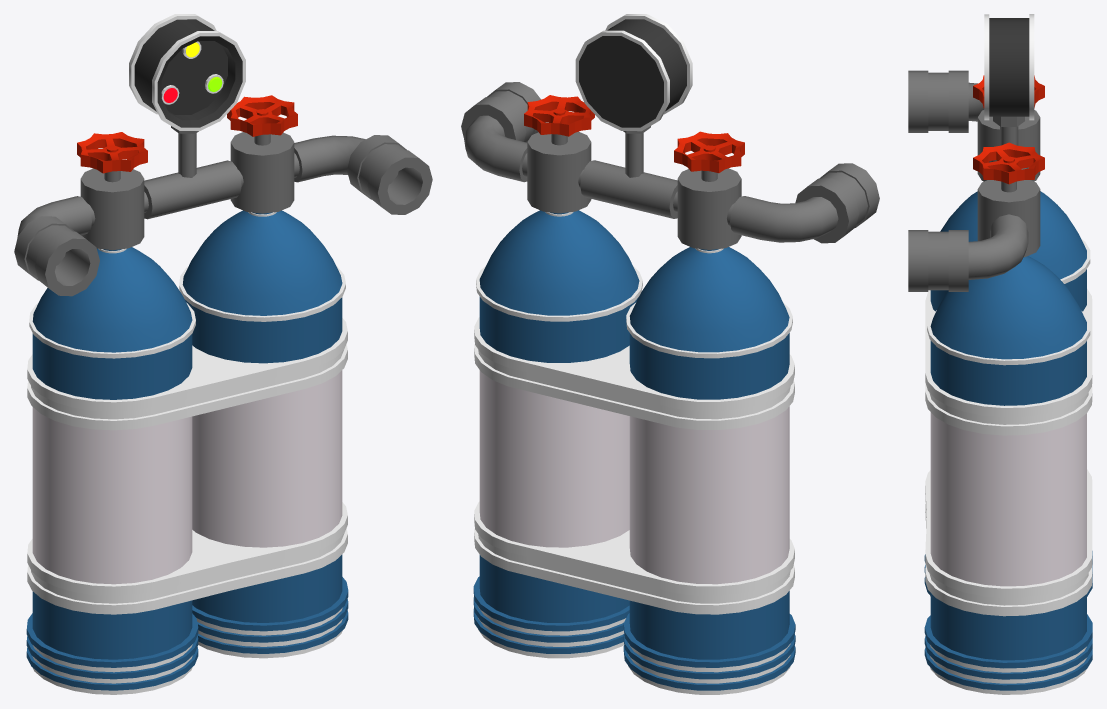
Rendered from oxygen_tank.fbx.
The picture shows the model from 3 angles, left to right: view 1: azimuth 30°, elevation 25°; view 2: azimuth 150°, elevation 25°; view 3: azimuth 270°, elevation 25°; orthographic projection. The views are drawn at different scales.
Visible parts, largest first — view 1: Cylinder, Cylinder.004, Circle, Circle.001, Circle.002, Circle.004, Cylinder.001, Circle.007; view 2: Cylinder, Cylinder.004, Circle, Circle.001, Circle.002, Circle.004, Cylinder.001; view 3: Cylinder, Circle, Cylinder.004, Circle.001, Circle.002, Cylinder.001.
Boxes of the visible parts, <box> form: Cylinder: <box>26,210,348,694</box>; Cylinder.004: <box>27,318,347,614</box>; Circle: <box>14,132,432,296</box>; Circle.001: <box>129,14,245,130</box>; Circle.002: <box>77,95,297,173</box>; Circle.004: <box>144,160,243,219</box>; Cylinder.001: <box>171,126,198,177</box>; Circle.007: <box>161,41,223,104</box>; Cylinder: <box>473,210,795,694</box>; Cylinder.004: <box>474,317,794,614</box>; Circle: <box>461,82,879,249</box>; Circle.001: <box>575,14,692,131</box>; Circle.002: <box>524,95,744,173</box>; Circle.004: <box>578,160,677,218</box>; Cylinder.001: <box>623,126,650,177</box>; Cylinder: <box>924,191,1092,694</box>; Circle: <box>908,70,1040,291</box>; Cylinder.004: <box>925,288,1092,616</box>; Circle.001: <box>984,14,1034,120</box>; Circle.002: <box>973,75,1044,184</box>; Cylinder.001: <box>993,116,1024,145</box>.
Size of the model in its own units: 559 by 852 by 235.
